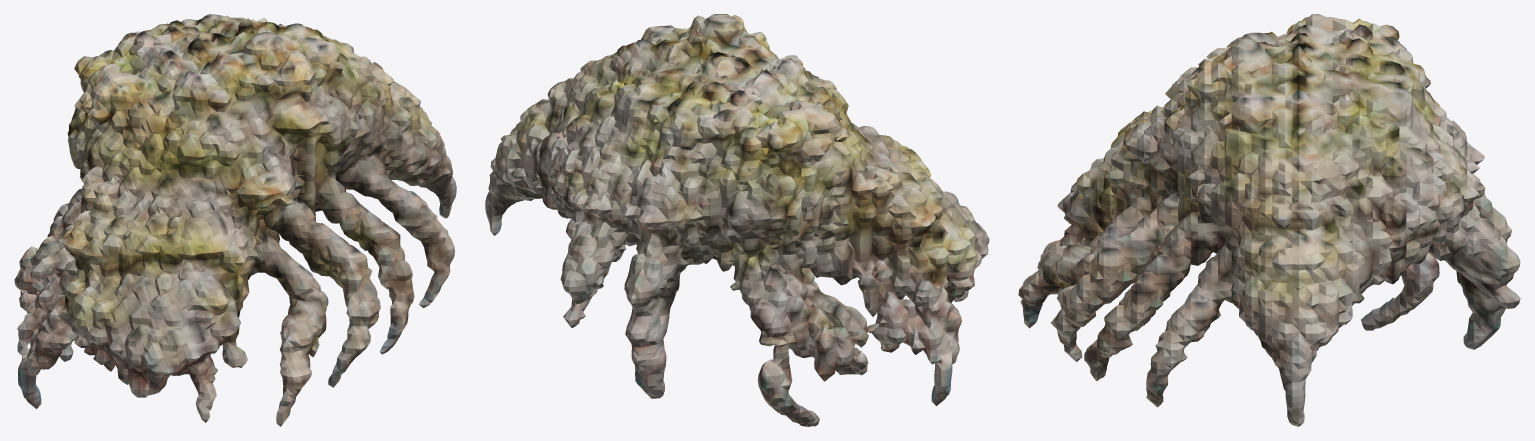
Rendered from crawler.glb.
The picture shows the model from 3 angles, left to right: view 1: azimuth 30°, elevation 25°; view 2: azimuth 150°, elevation 25°; view 3: azimuth 270°, elevation 25°; orthographic projection. The views are drawn at different scales.
Visible parts, largest first — view 1: geometry_0; view 2: geometry_0; view 3: geometry_0.
Part boxes in pixels (x1=…): geometry_0: x1=14, y1=14, x2=456, y2=426; geometry_0: x1=485, y1=14, x2=989, y2=426; geometry_0: x1=1018, y1=14, x2=1520, y2=426.
Size of the model in its own units: 0.9911 by 0.6947 by 0.8709.
